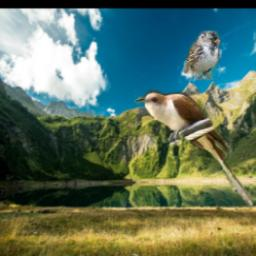Cuckoo: (135, 90, 254, 208)
Sparrow: (185, 32, 221, 81)
